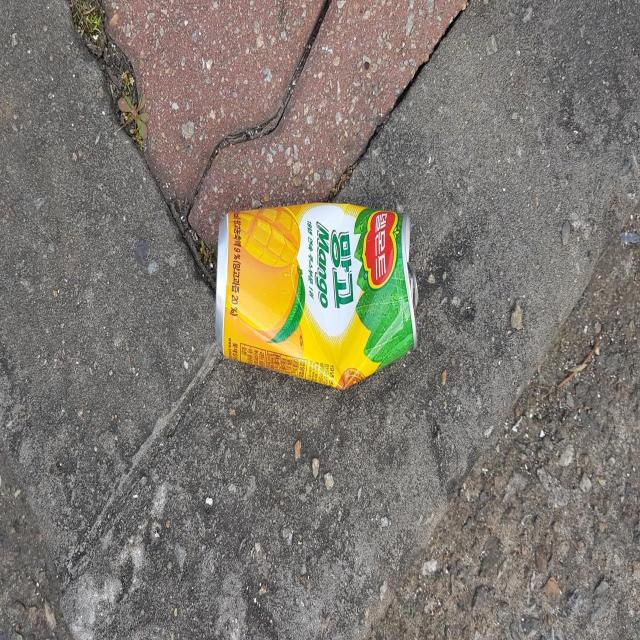can: (216, 202, 417, 389)
